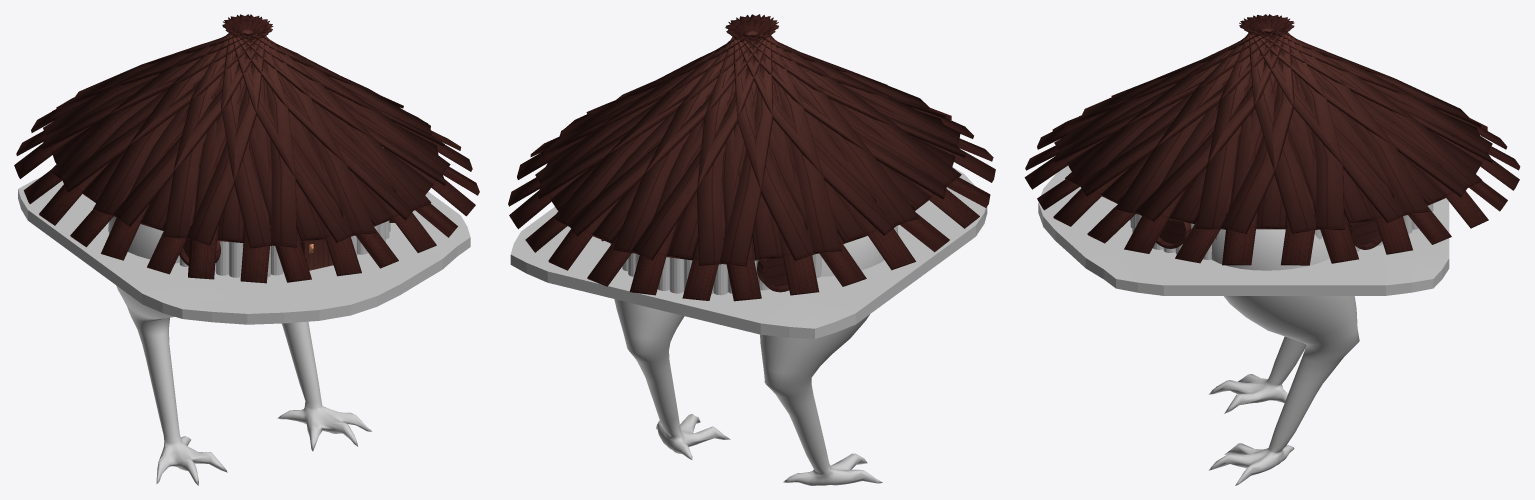
The model's file is chicken_house.fbx.
3 views of the same model, side by side, from view 1: azimuth 30°, elevation 25°; view 2: azimuth 150°, elevation 25°; view 3: azimuth 270°, elevation 25° (orthographic). The views are drawn at different scales.
Parts seen in each view (by area): view 1: Plane, Sphere.001, Cylinder.002; view 2: Plane, Sphere.001, Cylinder.002; view 3: Plane, Sphere.001, Cylinder.002.
Part boxes in pixels (<box>): Plane: <box>14,14,479,324</box>; Sphere.001: <box>108,216,371,485</box>; Cylinder.002: <box>179,219,394,270</box>; Plane: <box>508,14,995,338</box>; Sphere.001: <box>614,225,898,485</box>; Cylinder.002: <box>601,239,789,292</box>; Plane: <box>1024,14,1520,295</box>; Sphere.001: <box>1208,229,1359,485</box>; Cylinder.002: <box>1156,219,1381,249</box>.
Bounding box in the file's own units: 1525 × 1598 × 1747.
